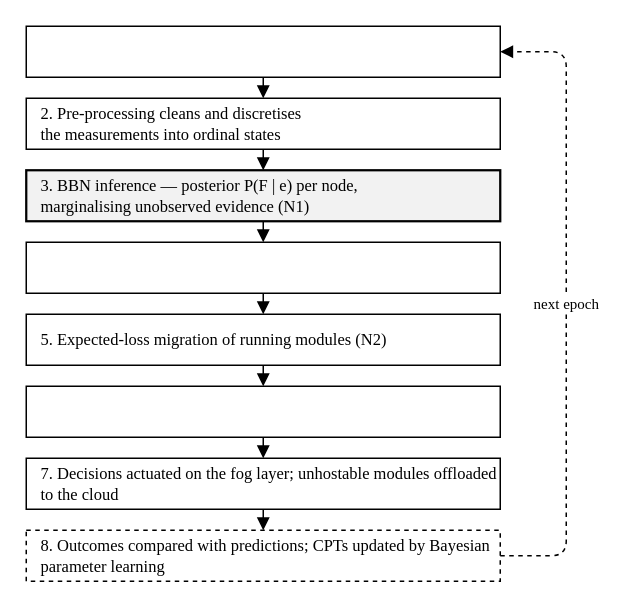
The diagram is 626 pixels wide and 608 high, and some of its shapes have lost their labels. Here are the shapes that lost their labels. From the top down, the box of each, then its label:
(25, 25, 500, 77): 1. Telemetry agents report node indicators
(25, 241, 500, 293): 4. Risk-aware placement of arriving modules (N2)
(25, 385, 500, 437): 6. Replication manager re-tiers modules within the redundancy budget (N3)
